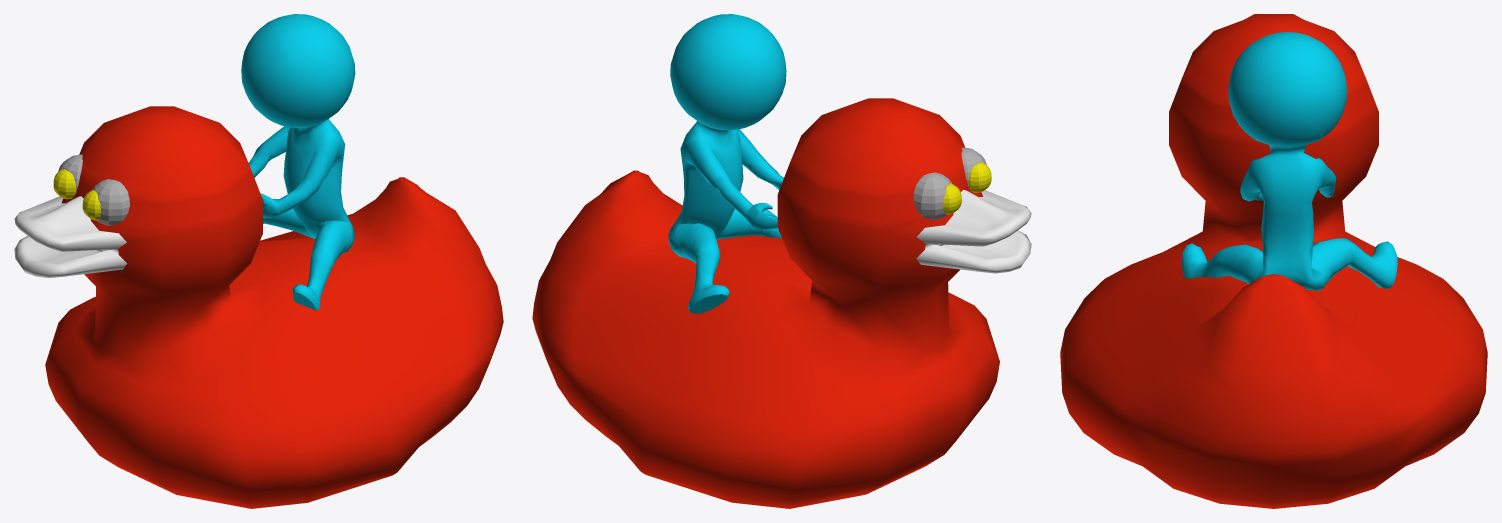
File: duck.fbx
3 renders of one model, left to right at view 1: azimuth 30°, elevation 25°; view 2: azimuth 150°, elevation 25°; view 3: azimuth 270°, elevation 25°, orthographic. The views are drawn at different scales.
Parts seen in each view (by area): view 1: polySurface70; view 2: polySurface70; view 3: polySurface70.
Boxes of the visible parts, bbox=[...] form: polySurface70: bbox=[14, 14, 503, 508]; polySurface70: bbox=[532, 14, 1031, 508]; polySurface70: bbox=[1060, 14, 1487, 508].
Size of the model in its own units: 279 by 228 by 215.
